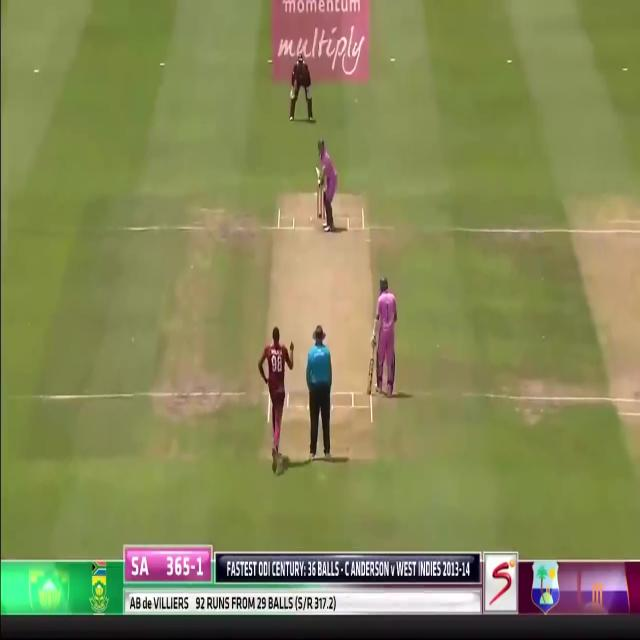Ball: (372, 274, 399, 400), (315, 137, 340, 231)
Fielder: (257, 324, 292, 468), (287, 46, 314, 121)
Umpire: (307, 324, 333, 464)
